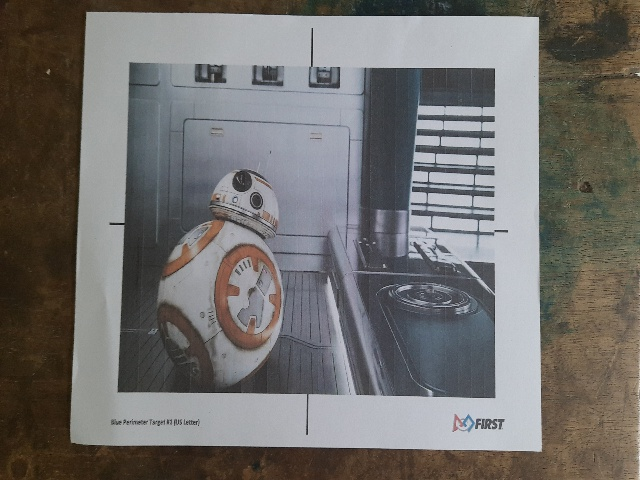bpt1: (93, 24, 535, 452)
